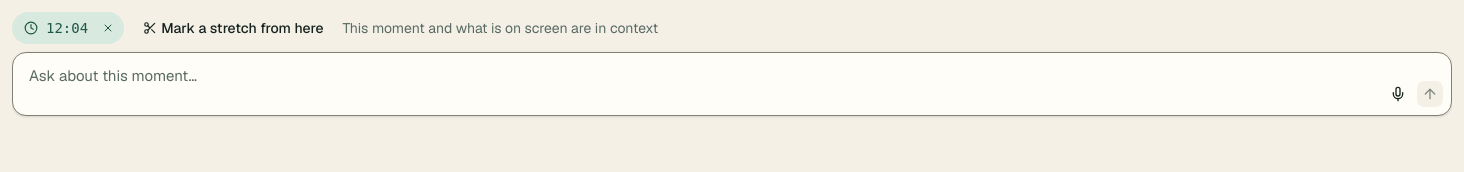
the composer under the player › carries a marked stretch instead of the playhead
Click the button "Mark a stretch from here" at (233, 28), box x1=132 y1=14 x2=334 y2=42
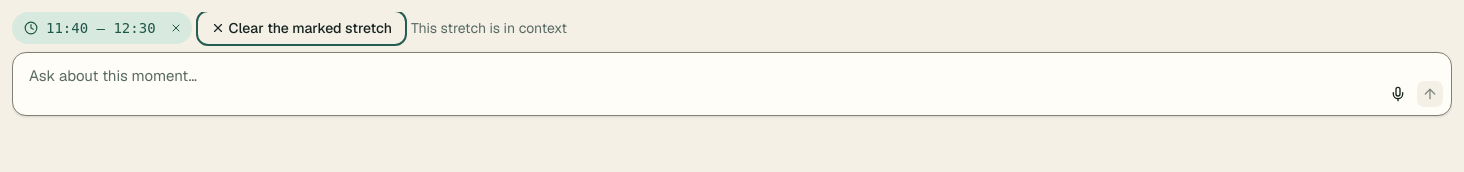
Now the text "11:40 – 12:30" is shown, box x1=46 y1=18 x2=156 y2=38
Now the text "This stretch is in context" is shown, box x1=411 y1=18 x2=567 y2=38
